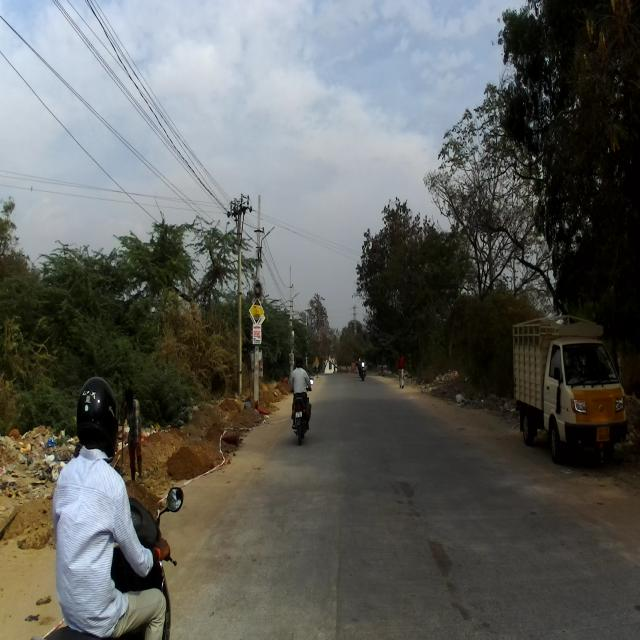car ahead at: (516, 309, 633, 466)
electric pole ahead at: (246, 208, 272, 406)
